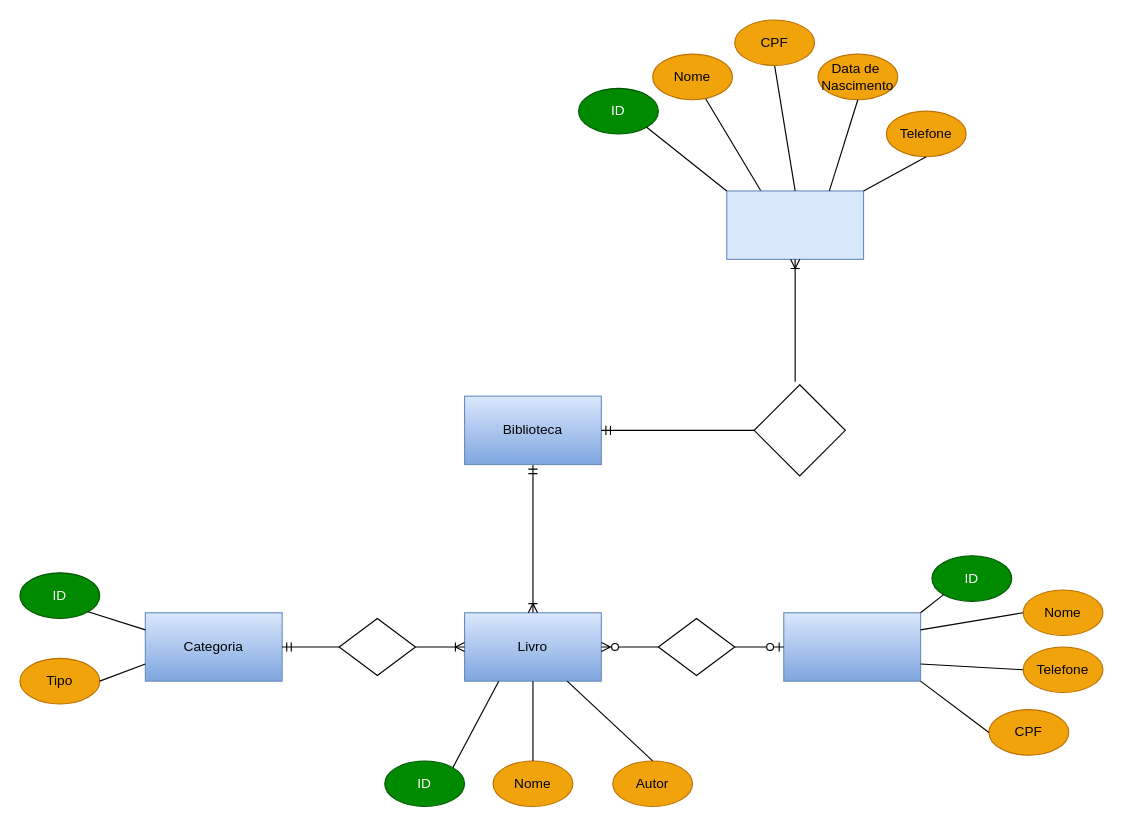
This 1123x827 diagram has some shape labels left out. The shapes that lost their labels are listed below. From the top down, each one's centre as x and y in pixels, then its label:
At (x=795, y=224): "Funcionário".
At (x=799, y=430): "Possui".
At (x=377, y=646): "Pertence".
At (x=696, y=646): "Emprestar".
At (x=852, y=646): "Leitor".
